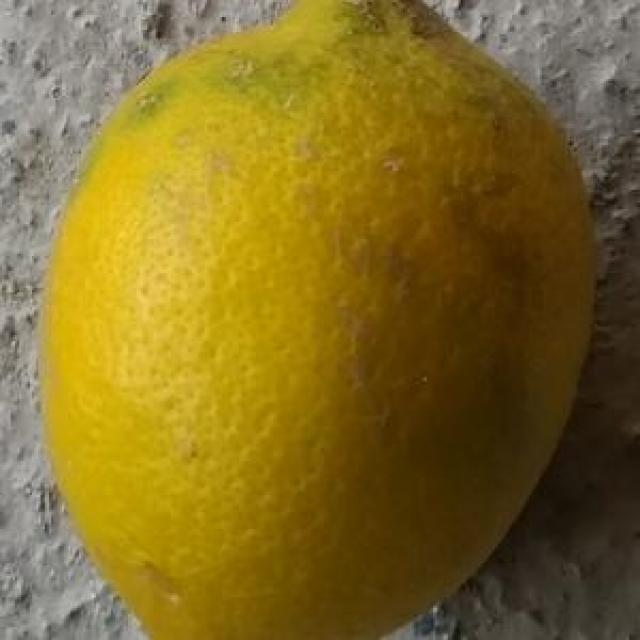lemon: (38, 5, 600, 640)
